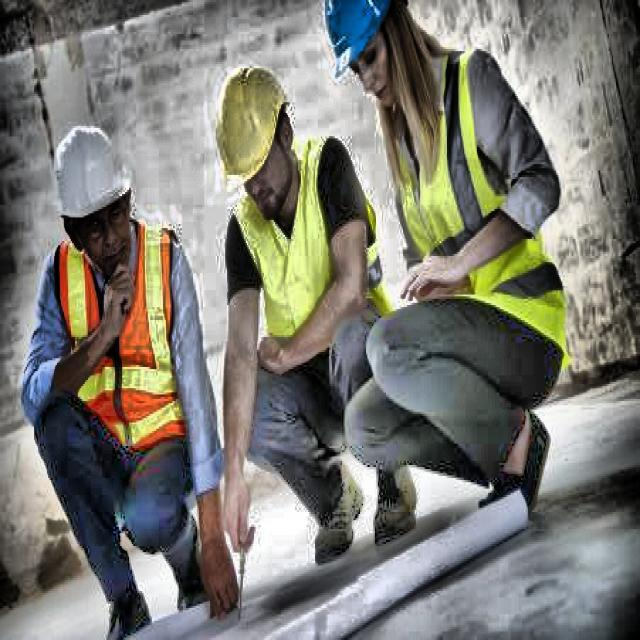helmet: (47, 113, 135, 286), (216, 64, 310, 213), (316, 2, 438, 107)
